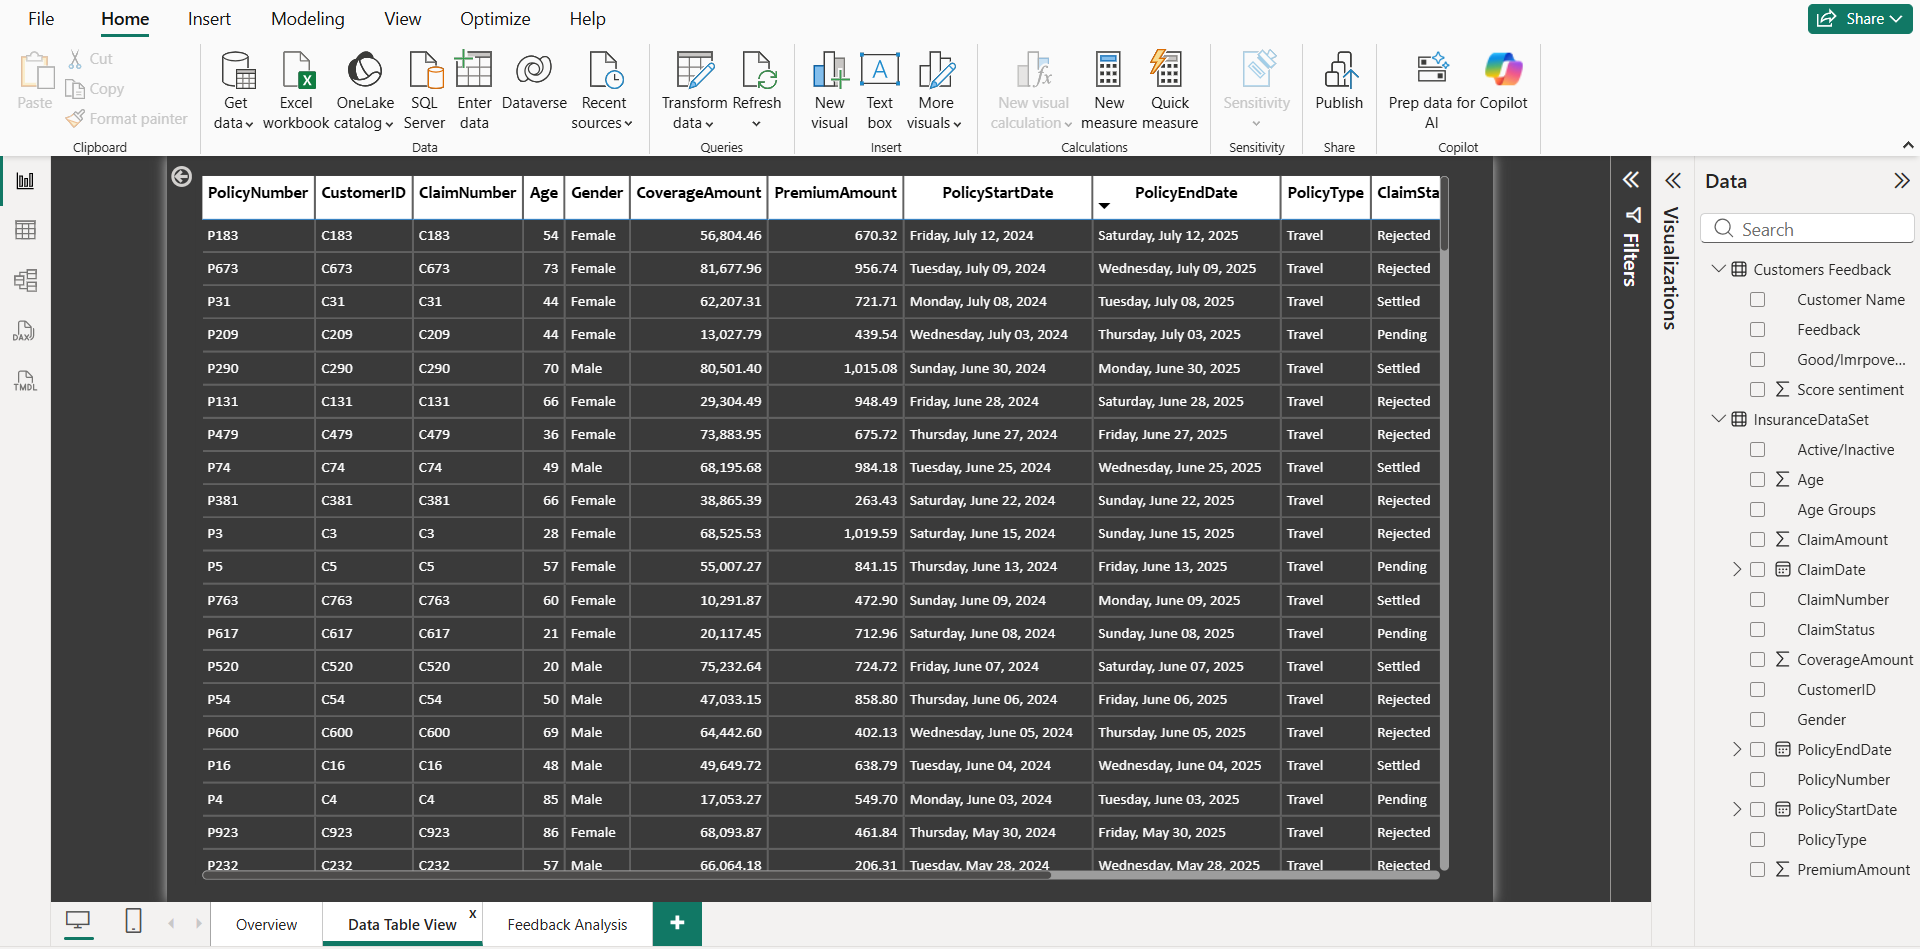

This screenshot's page, from the dashboard's own definition file:
{"tool":"powerbi","page":{"name":"Data Table View","canvas":[1280,720],"ordinal":1},"visuals":[{"type":"tableEx","fields":{"Values":["InsuranceDataSet.PolicyNumber","InsuranceDataSet.CustomerID","InsuranceDataSet.ClaimNumber","InsuranceDataSet.Age","InsuranceDataSet.Gender","InsuranceDataSet.CoverageAmount","InsuranceDataSet.PremiumAmount","InsuranceDataSet.PolicyStartDate","InsuranceDataSet.PolicyEndDate","InsuranceDataSet.PolicyType","InsuranceDataSet.ClaimStatus","InsuranceDataSet.ClaimDate"]},"box":[28.3,14.2,1214.6,688.8],"z":0},{"type":"actionButton","box":[0,0,28.3,39.7],"z":1000}]}

Visuals, with their boxes on the page's 1280x720 design canvas (x1, y1, x2, y2). These are canvas units, not pixel positions in the 1920x949 screenshot, which may show the page scaled, cropped or inside an application window:
tableEx - InsuranceDataSet.PolicyNumber x InsuranceDataSet.CustomerID: (28,14,1243,703)
actionButton: (0,0,28,40)
